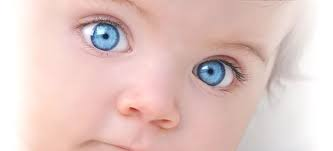pupil: (91, 22, 119, 51), (197, 60, 225, 86)
